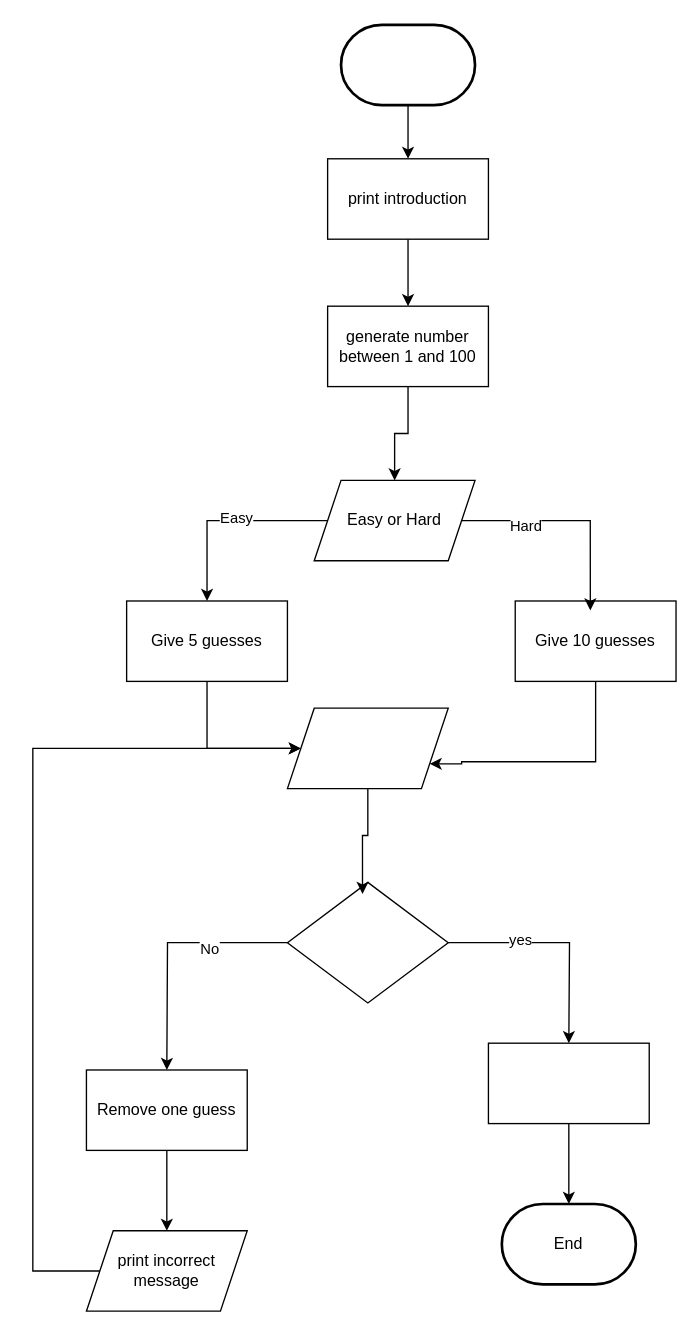
Image size: 699x1335. Some labels were removed from this diagram. Each missing label, with the centre of its shape:
"Does it match?" goes at point (367, 942).
"print you are correct" goes at point (568, 1083).
"start" goes at point (407, 64).
"user guess" goes at point (367, 748).
